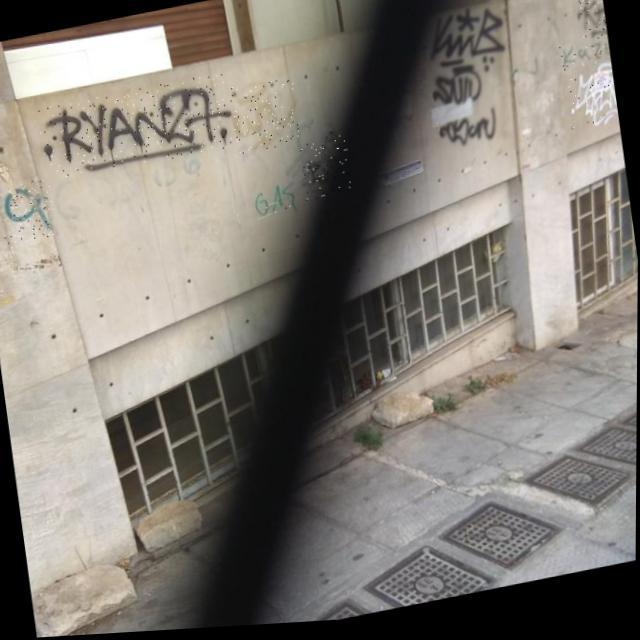-: (36, 74, 235, 184), (424, 6, 523, 170), (228, 78, 302, 158), (297, 132, 354, 205), (0, 176, 57, 246), (565, 67, 619, 137), (252, 183, 301, 226), (560, 43, 612, 78), (576, 0, 608, 47)
